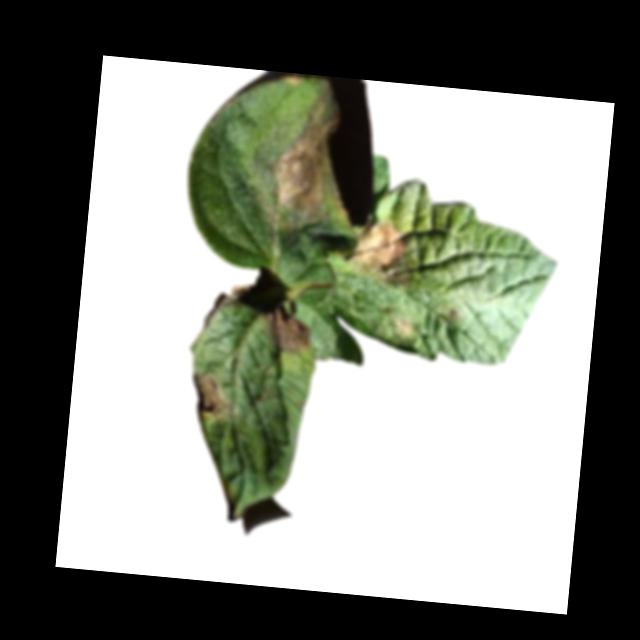Late_blight: (266, 115, 333, 224), (346, 216, 409, 281), (189, 369, 236, 423), (202, 280, 247, 333), (264, 304, 311, 353), (392, 314, 417, 337)
